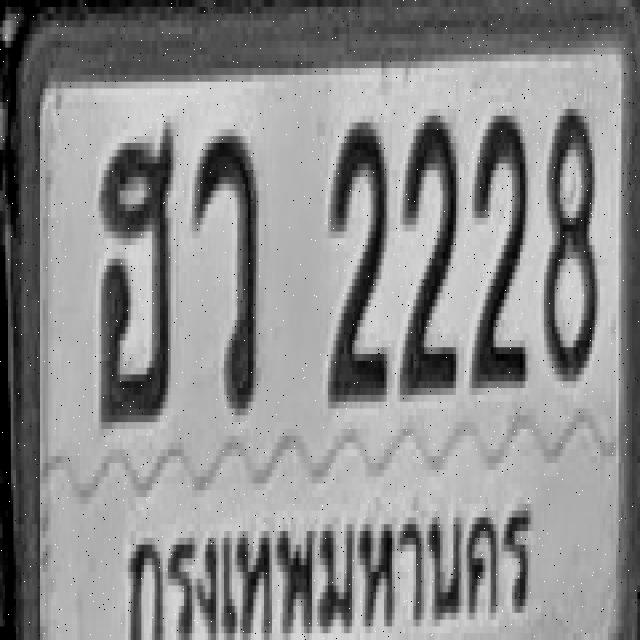2: (328, 112, 386, 398), (399, 109, 457, 388), (471, 106, 526, 384)
46WorWaen: (192, 130, 258, 408)
53HorNokHook: (97, 122, 175, 422)
8: (542, 99, 596, 378)
Bangkok: (118, 484, 542, 640)
